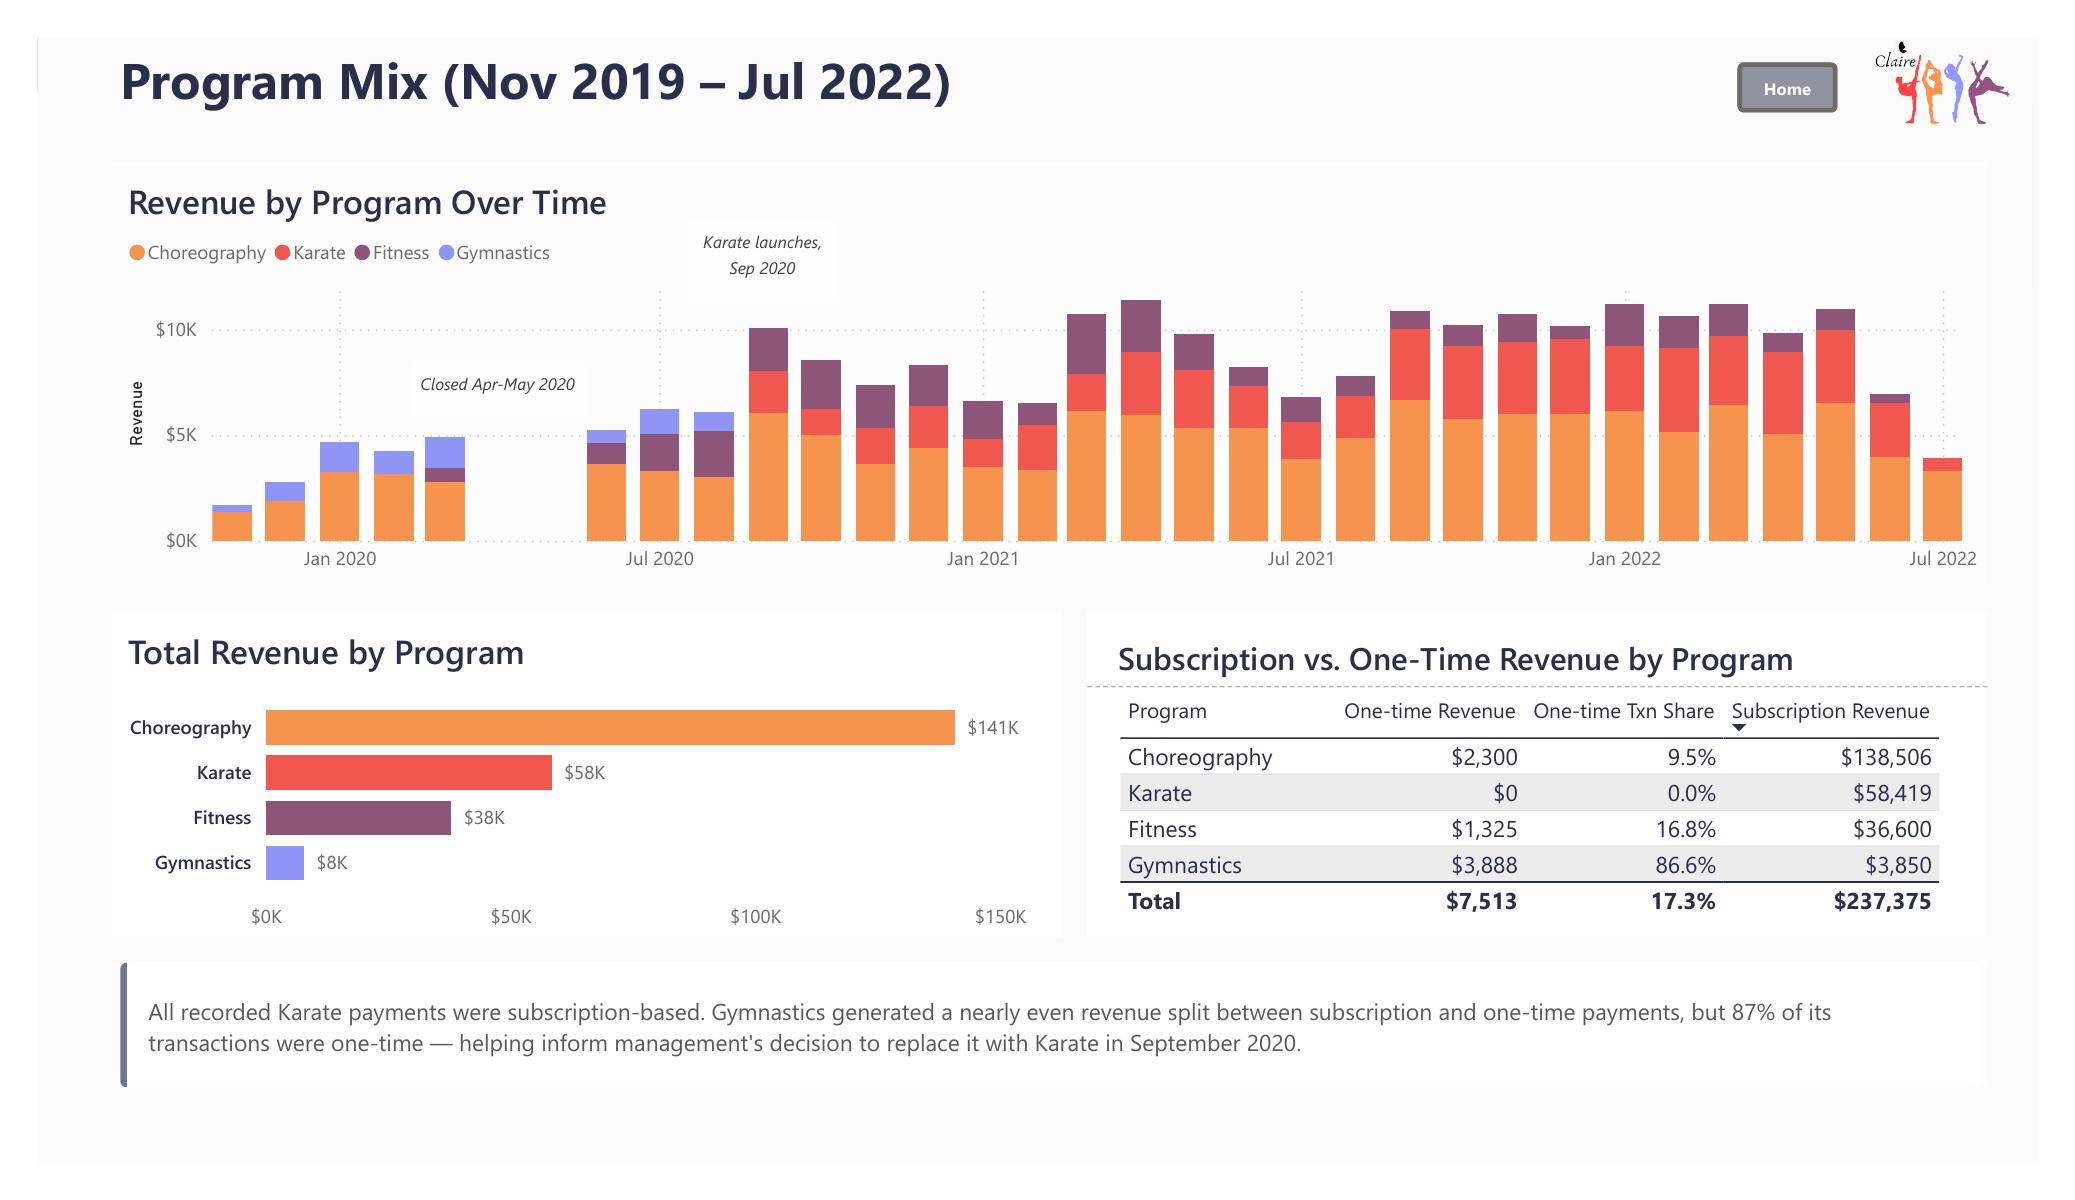

This screenshot's page, from the dashboard's own definition file:
{"tool":"powerbi","page":{"name":"Program Mix","canvas":[1280,720],"ordinal":3},"visuals":[{"type":"columnChart","title":"Revenue by Program Over Time","fields":{"Category":["DateTable.Date"],"Y":["Sum(ProgramRevenueLong.Revenue)"],"Series":["Program.Program"]},"box":[48,80,1200,272],"z":0,"group":"g2"},{"type":"barChart","title":"Total Revenue by Program","fields":{"Category":["ProgramRevenueLong.Program"],"Y":["Sum(ProgramRevenueLong.Revenue)"]},"box":[48,368,608,208],"z":0},{"type":"textbox","title":"Business Overview","box":[32,0,560,64],"z":1000},{"type":"textbox","box":[240,206.9,112,36.3],"z":1000,"group":"g2"},{"type":"image","box":[1168,0,112,80],"z":2000},{"type":"group","id":"g1","title":"Group 1","box":[416,116.3,96,54.4],"z":2000,"group":"g2"},{"type":"tableEx","title":"Subscription vs. One-Time Revenue by Program","fields":{"Values":["ProgramPaymentMix.Program","_Measures.One-time Revenue","_Measures.One-time Txn Share","_Measures.Subscription Revenue"]},"box":[672,368,576,208],"z":3000,"group":"g3"},{"type":"cardVisual","fields":{"Data":["_Measures.Payment Mix Insight"]},"box":[48,592,1200,80],"z":3000},{"type":"group","id":"g2","title":"Group 2","box":[48,80,1200,272],"z":4000},{"type":"group","id":"g3","title":"Group 3","box":[672,368,576,208],"z":5000},{"type":"actionButton","box":[1088,16,64,32],"z":6000},{"type":"shape","box":[672,416,576,32],"z":6001,"group":"g3"},{"type":"textbox","box":[416,116.3,96,54.4],"z":9005,"group":"g1"}]}

Visuals, with their boxes on the page's 1280x720 design canvas (x1, y1, x2, y2). These are canvas units, not pixel positions in the 2075x1200 screenshot, which may show the page scaled, cropped or inside an application window:
"Revenue by Program Over Time" columnChart: box=[48, 80, 1248, 352]
"Total Revenue by Program" barChart: box=[48, 368, 656, 576]
"Business Overview" textbox: box=[32, 0, 592, 64]
textbox: box=[240, 207, 352, 243]
image: box=[1168, 0, 1280, 80]
"Group 1" group: box=[416, 116, 512, 171]
"Subscription vs. One-Time Revenue by Program" tableEx: box=[672, 368, 1248, 576]
cardVisual - _Measures.Payment Mix Insight: box=[48, 592, 1248, 672]
"Group 2" group: box=[48, 80, 1248, 352]
"Group 3" group: box=[672, 368, 1248, 576]
actionButton: box=[1088, 16, 1152, 48]
shape: box=[672, 416, 1248, 448]
textbox: box=[416, 116, 512, 171]
